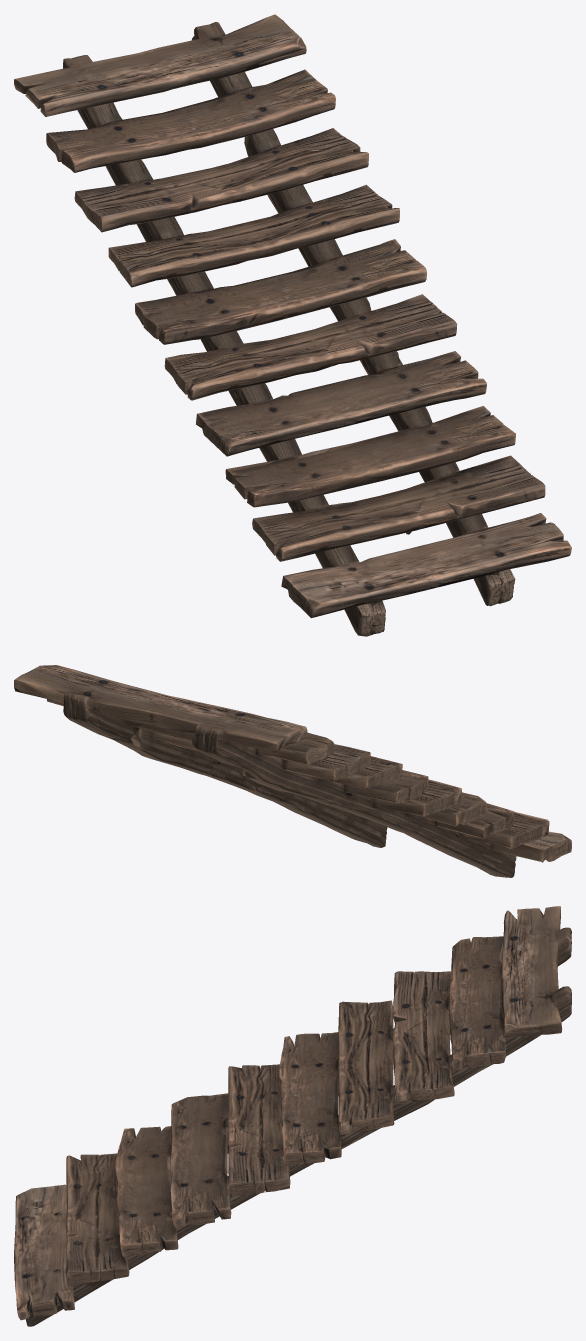
The model's file is obj_wooden_stairs.glb.
3 renders of one model, top to bottom at view 1: azimuth 30°, elevation 25°; view 2: azimuth 150°, elevation 25°; view 3: azimuth 270°, elevation 25°, orthographic. The views are drawn at different scales.
Visible parts, largest first — view 1: Mesh_0; view 2: Mesh_0; view 3: Mesh_0.
Boxes of the visible parts, <box> form: Mesh_0: <box>14,14,571,636</box>; Mesh_0: <box>14,665,571,877</box>; Mesh_0: <box>14,906,571,1326</box>.
Bounding box in the file's own units: 0.9717 × 1.26 × 1.9.
Materials: 1 (1 with a texture image).
